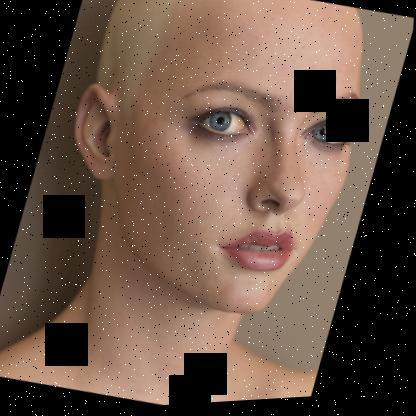Female: (30, 0, 394, 342)
